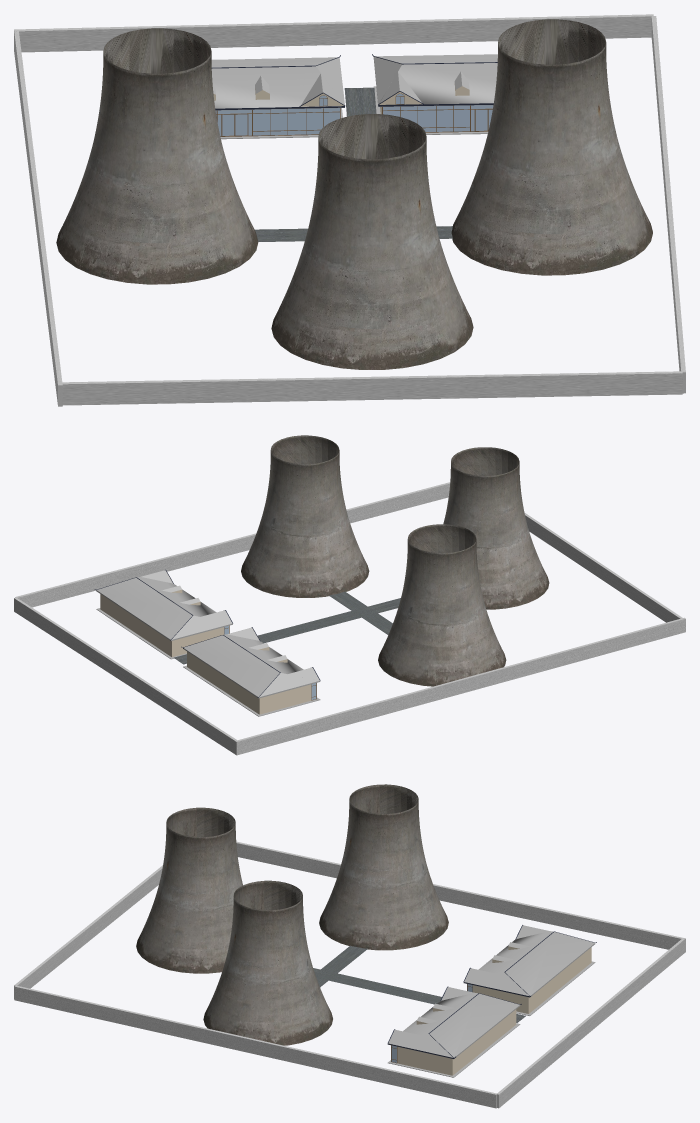
File: gongye2.gltf
3 views of the same model, one above another, from view 1: azimuth 30°, elevation 25°; view 2: azimuth 150°, elevation 25°; view 3: azimuth 270°, elevation 25° (orthographic). The views are drawn at different scales.
Parts seen in each view (by area): view 1: Cylinder006, Cylinder005, Cylinder004, Box004, ____003, ____004, Plane059; view 2: Box004, Cylinder006, Cylinder005, Cylinder004, ____003, ____004, Plane059; view 3: Box004, Cylinder005, Cylinder006, Cylinder004, ____004, ____003, Plane059.
Boxes of the visible parts, box(x1,y1,x2,y2) form: Cylinder006: box(451, 19, 652, 275); Cylinder005: box(56, 28, 258, 284); Cylinder004: box(271, 114, 473, 369); Box004: box(14, 14, 685, 406); ____003: box(211, 55, 345, 139); ____004: box(372, 54, 497, 134); Plane059: box(255, 87, 452, 241); Box004: box(14, 482, 685, 755); Cylinder006: box(241, 435, 369, 597); Cylinder005: box(378, 524, 506, 686); Cylinder004: box(443, 447, 549, 609); ____003: box(181, 627, 320, 716); ____004: box(94, 569, 232, 659); Plane059: box(174, 591, 400, 664); Box004: box(14, 841, 685, 1108); Cylinder005: box(319, 784, 448, 950); Cylinder006: box(203, 880, 332, 1045); Cylinder004: box(136, 807, 242, 973); ____004: box(387, 986, 521, 1077); ____003: box(463, 925, 596, 1015); Plane059: box(313, 945, 525, 1022).
Size of the model in its own units: 1592 by 354 by 1731.
23 materials, 5 textured.
